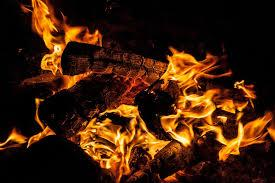fire: (5, 1, 275, 180)
